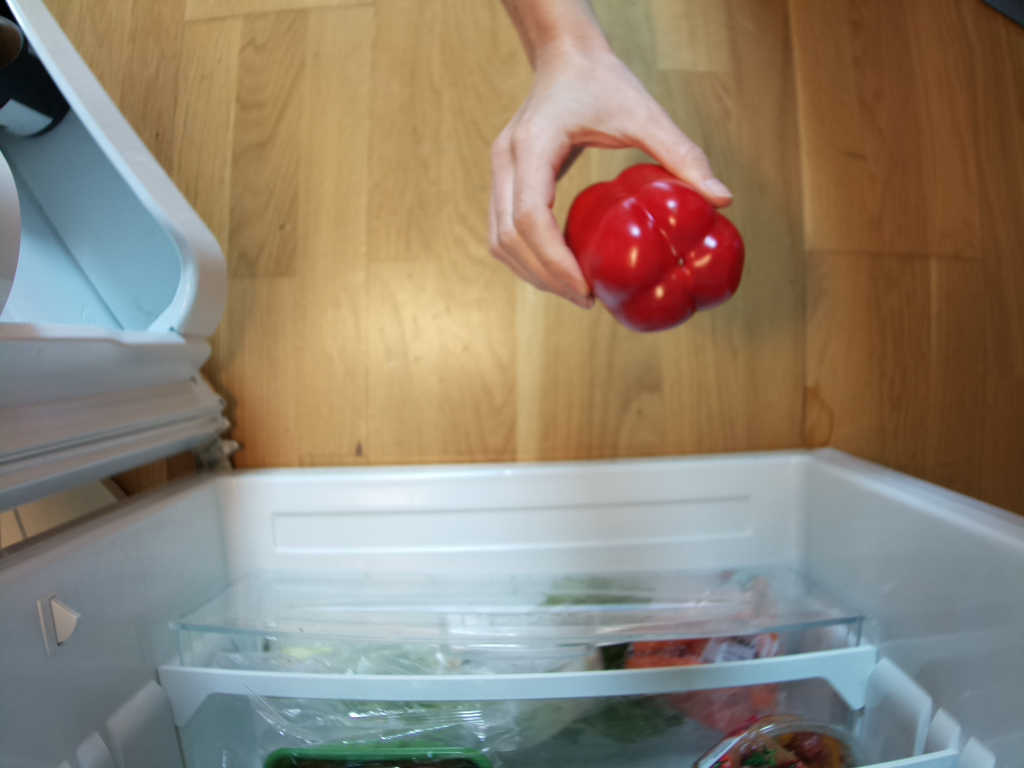pepper: (567, 161, 748, 336)
